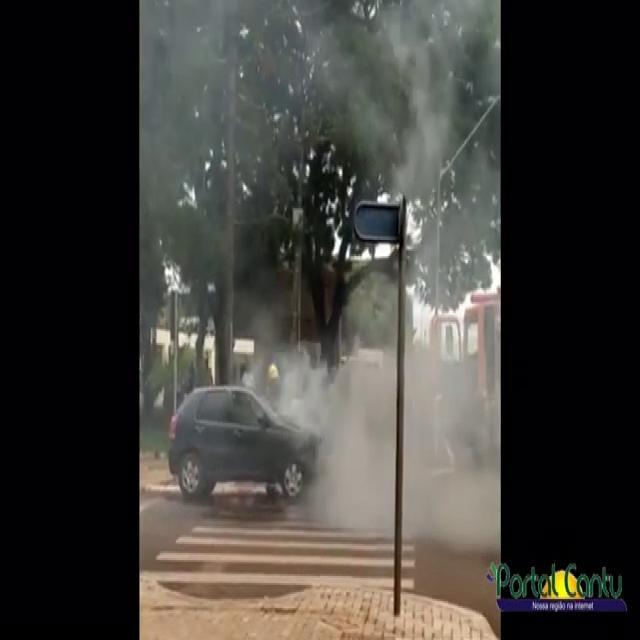Smoke: (255, 351, 485, 544), (328, 10, 486, 226), (150, 19, 268, 262)
